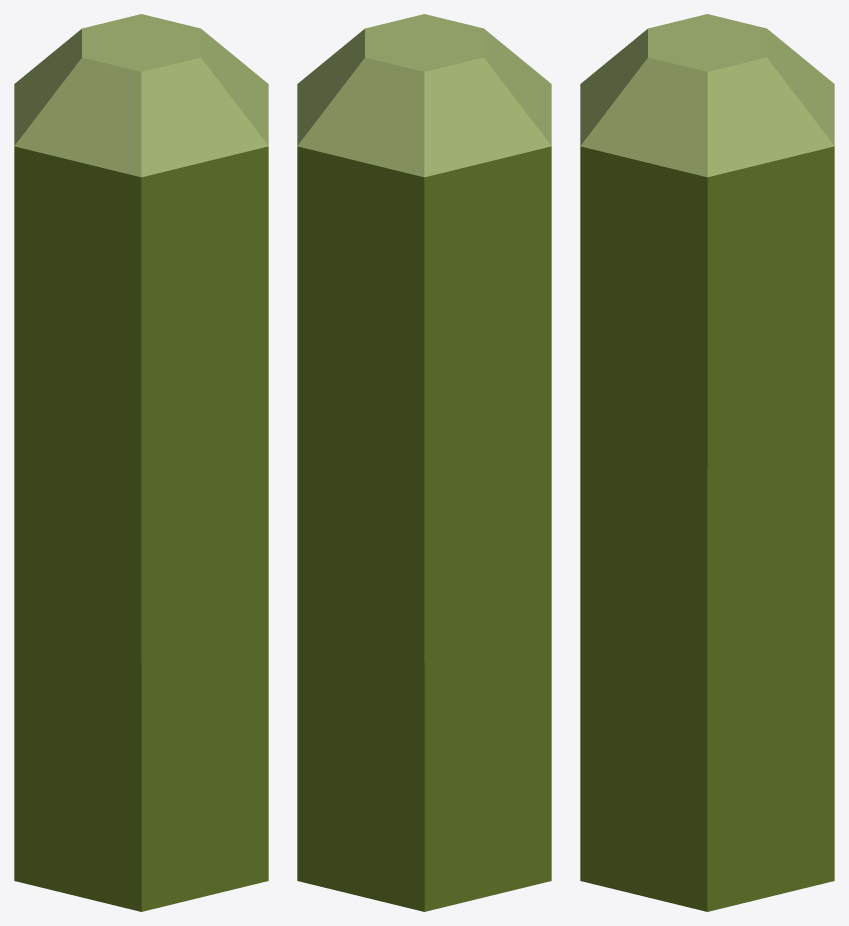
File: TB_D_Env_CactusA_A.FBX
The picture shows the model from 3 angles, left to right: view 1: azimuth 30°, elevation 25°; view 2: azimuth 150°, elevation 25°; view 3: azimuth 270°, elevation 25°; orthographic projection.
Parts seen in each view (by area): view 1: TB_D_Env_CactusA_A; view 2: TB_D_Env_CactusA_A; view 3: TB_D_Env_CactusA_A.
Boxes of the visible parts, bbox=[...] form: TB_D_Env_CactusA_A: bbox=[14, 14, 268, 911]; TB_D_Env_CactusA_A: bbox=[297, 14, 551, 911]; TB_D_Env_CactusA_A: bbox=[580, 14, 834, 911].
Bounding box in the file's own units: 0.5608 × 1.7 × 0.4857.
